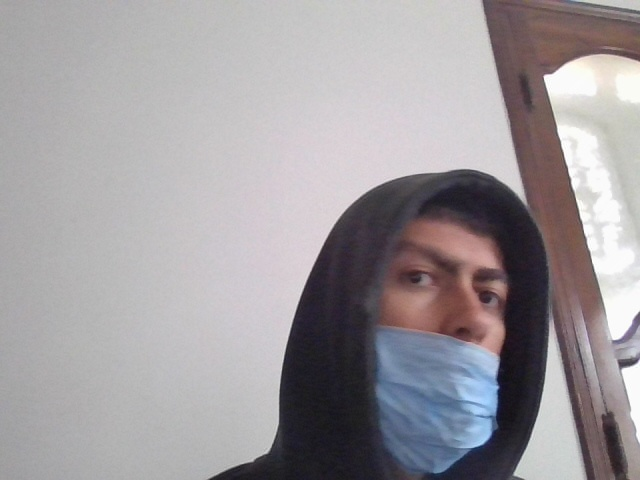mask_weared_incorrect: (363, 191, 536, 480)
